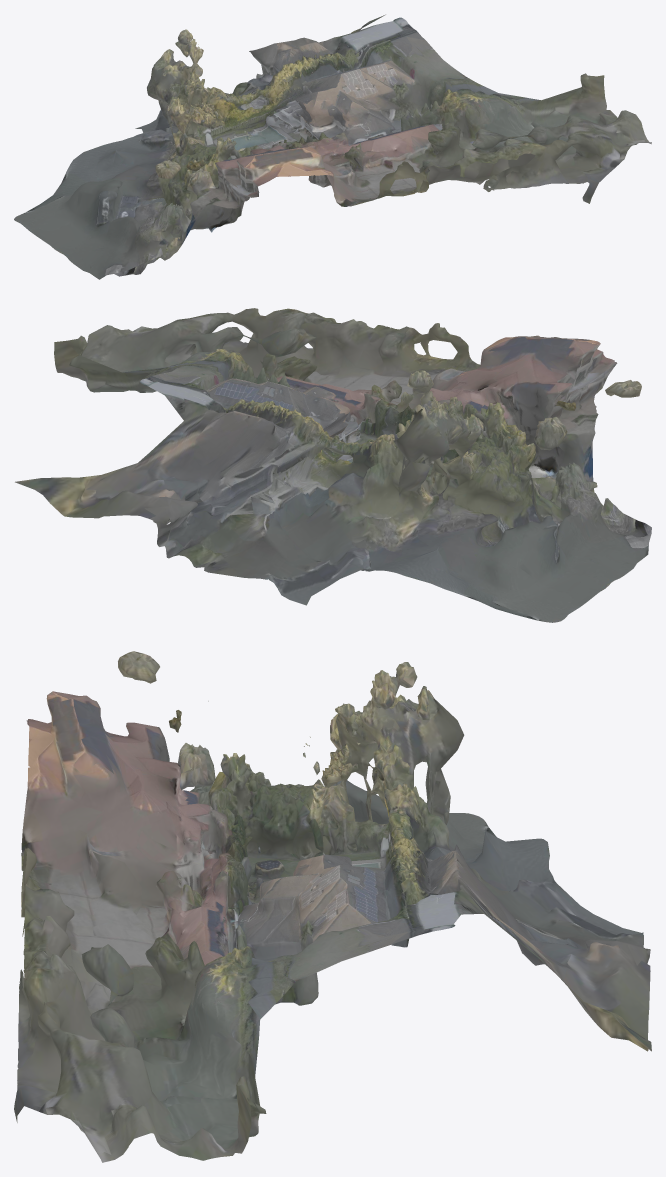
Rendered from maryland_house_lowpoly.glb.
3 renders of one model, top to bottom at view 1: azimuth 30°, elevation 25°; view 2: azimuth 150°, elevation 25°; view 3: azimuth 270°, elevation 25°, orthographic. The views are drawn at different scales.
Parts seen in each view (by area): view 1: ObjectCapture; view 2: ObjectCapture; view 3: ObjectCapture.
Part boxes in pixels (x1,y1,x2,y2): ObjectCapture: [14, 14, 651, 279]; ObjectCapture: [15, 308, 651, 622]; ObjectCapture: [14, 651, 651, 1162].
Bounding box in the file's own units: 1.24 × 0.39 × 0.8262.
Materials: 1 (1 with a texture image).
